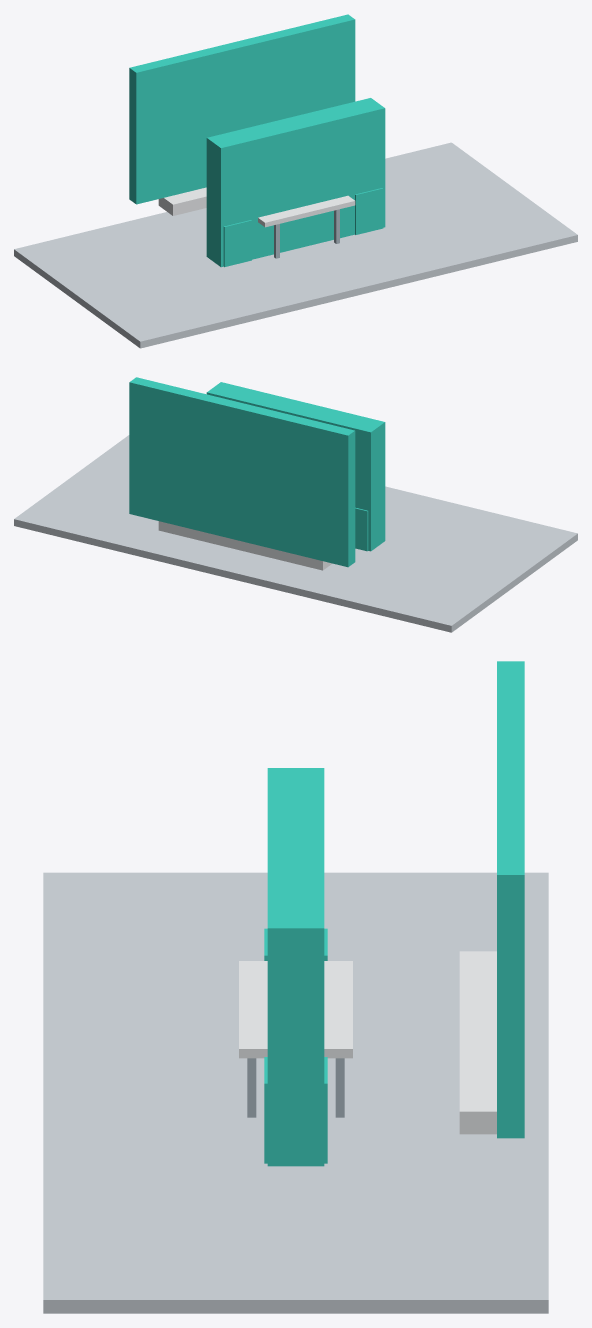
The picture shows the model from 3 angles, top to bottom: view 1: azimuth 30°, elevation 25°; view 2: azimuth 150°, elevation 25°; view 3: azimuth 270°, elevation 25°; orthographic projection. The views are drawn at different scales.
Parts seen in each view (by area): view 1: Exhibition Booth Concept; view 2: Exhibition Booth Concept; view 3: Exhibition Booth Concept.
Boxes of the visible parts, x1,y1,x2,y2 form: Exhibition Booth Concept: (14,14,577,348); Exhibition Booth Concept: (14,377,577,632); Exhibition Booth Concept: (43,661,548,1313).
Size of the model in its own units: 8 by 2.9 by 4.
